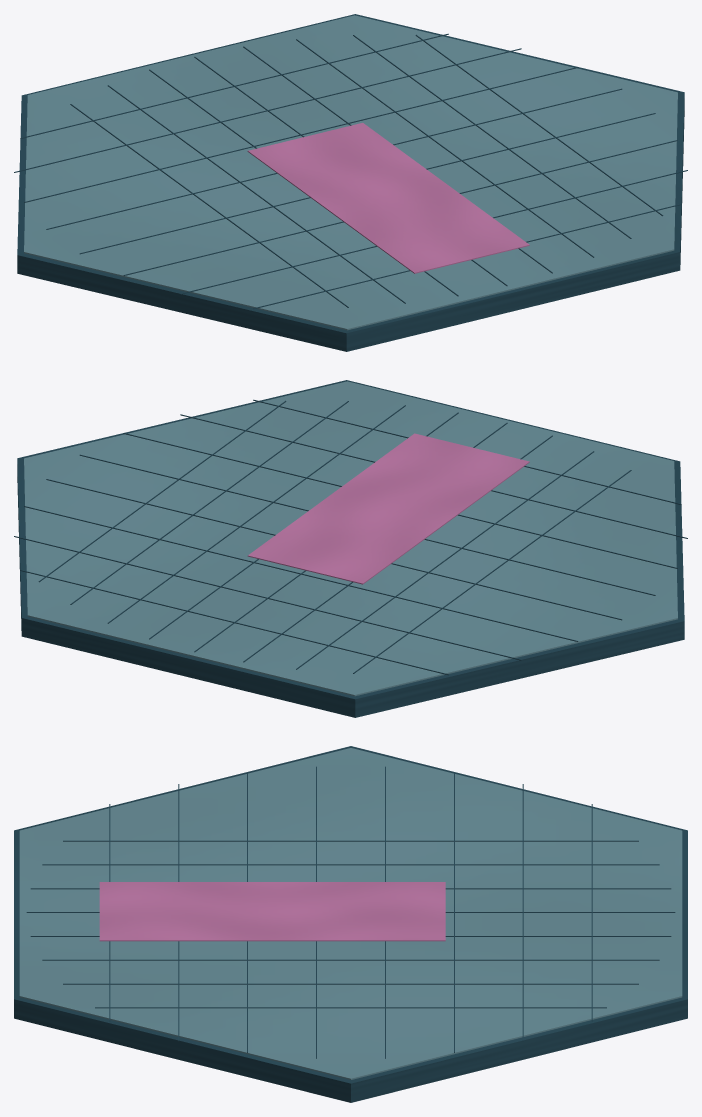
The model's file is atlas100-s063-a07.lod1.glb.
3 renders of one model, top to bottom at view 1: azimuth 30°, elevation 25°; view 2: azimuth 150°, elevation 25°; view 3: azimuth 270°, elevation 25°, orthographic. The views are drawn at different scales.
Parts seen in each view (by area): view 1: atlas100-s063-a07:part-001, atlas100-s063-a07:part-021, atlas100-s063-a07:part-000, atlas100-s063-a07:part-015, atlas100-s063-a07:part-014, atlas100-s063-a07:part-017, atlas100-s063-a07:part-016, atlas100-s063-a07:part-018, atlas100-s063-a07:part-013, atlas100-s063-a07:part-019, atlas100-s063-a07:part-005, atlas100-s063-a07:part-009 (+4 smaller); view 2: atlas100-s063-a07:part-001, atlas100-s063-a07:part-021, atlas100-s063-a07:part-000, atlas100-s063-a07:part-015, atlas100-s063-a07:part-014, atlas100-s063-a07:part-016, atlas100-s063-a07:part-017, atlas100-s063-a07:part-018, atlas100-s063-a07:part-013, atlas100-s063-a07:part-019, atlas100-s063-a07:part-005, atlas100-s063-a07:part-009 (+4 smaller); view 3: atlas100-s063-a07:part-001, atlas100-s063-a07:part-021, atlas100-s063-a07:part-000, atlas100-s063-a07:part-009, atlas100-s063-a07:part-005, atlas100-s063-a07:part-004, atlas100-s063-a07:part-010, atlas100-s063-a07:part-011, atlas100-s063-a07:part-006.
Part boxes in pixels (x1=…): atlas100-s063-a07:part-001: x1=24, y1=15, x2=677, y2=330; atlas100-s063-a07:part-021: x1=247, y1=123, x2=529, y2=273; atlas100-s063-a07:part-000: x1=17, y1=14, x2=684, y2=351; atlas100-s063-a07:part-015: x1=24, y1=67, x2=578, y2=202; atlas100-s063-a07:part-014: x1=14, y1=48, x2=521, y2=172; atlas100-s063-a07:part-017: x1=79, y1=113, x2=655, y2=254; atlas100-s063-a07:part-016: x1=46, y1=88, x2=622, y2=229; atlas100-s063-a07:part-018: x1=123, y1=140, x2=677, y2=275; atlas100-s063-a07:part-013: x1=20, y1=33, x2=448, y2=138; atlas100-s063-a07:part-019: x1=180, y1=170, x2=687, y2=294; atlas100-s063-a07:part-005: x1=107, y1=85, x2=405, y2=303; atlas100-s063-a07:part-009: x1=296, y1=39, x2=594, y2=257; atlas100-s063-a07:part-001: x1=24, y1=381, x2=677, y2=696; atlas100-s063-a07:part-021: x1=247, y1=433, x2=529, y2=584; atlas100-s063-a07:part-000: x1=17, y1=380, x2=684, y2=717; atlas100-s063-a07:part-015: x1=24, y1=506, x2=578, y2=641; atlas100-s063-a07:part-014: x1=14, y1=536, x2=521, y2=660; atlas100-s063-a07:part-016: x1=46, y1=479, x2=622, y2=620; atlas100-s063-a07:part-017: x1=79, y1=454, x2=655, y2=595; atlas100-s063-a07:part-018: x1=123, y1=433, x2=677, y2=568; atlas100-s063-a07:part-013: x1=20, y1=570, x2=448, y2=675; atlas100-s063-a07:part-019: x1=180, y1=414, x2=687, y2=538; atlas100-s063-a07:part-005: x1=296, y1=451, x2=594, y2=669; atlas100-s063-a07:part-009: x1=107, y1=405, x2=405, y2=623; atlas100-s063-a07:part-001: x1=19, y1=748, x2=682, y2=1079; atlas100-s063-a07:part-021: x1=99, y1=882, x2=445, y2=941; atlas100-s063-a07:part-000: x1=14, y1=746, x2=687, y2=1102; atlas100-s063-a07:part-009: x1=42, y1=959, x2=659, y2=960; atlas100-s063-a07:part-005: x1=42, y1=864, x2=659, y2=865; atlas100-s063-a07:part-004: x1=63, y1=840, x2=638, y2=841; atlas100-s063-a07:part-010: x1=63, y1=983, x2=638, y2=984; atlas100-s063-a07:part-011: x1=95, y1=1007, x2=606, y2=1008; atlas100-s063-a07:part-006: x1=30, y1=888, x2=671, y2=889.
Bounding box in the file's own units: 12.75 × 0.404 × 10.76.
Materials: 3 (3 with a texture image).
